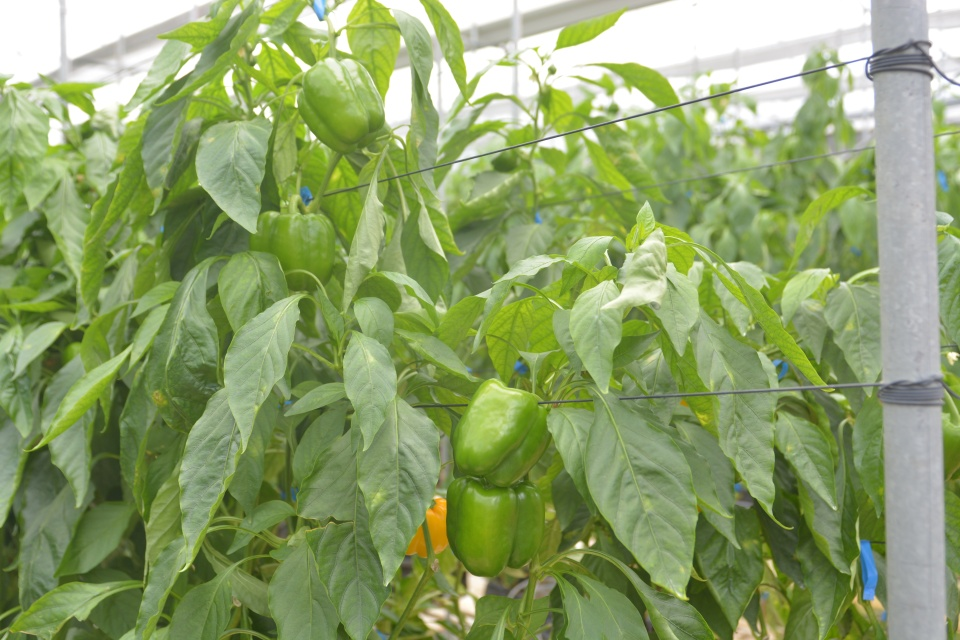fruit: (449, 376, 554, 490), (443, 473, 548, 581), (294, 53, 388, 156), (247, 209, 339, 294), (402, 490, 448, 559)
